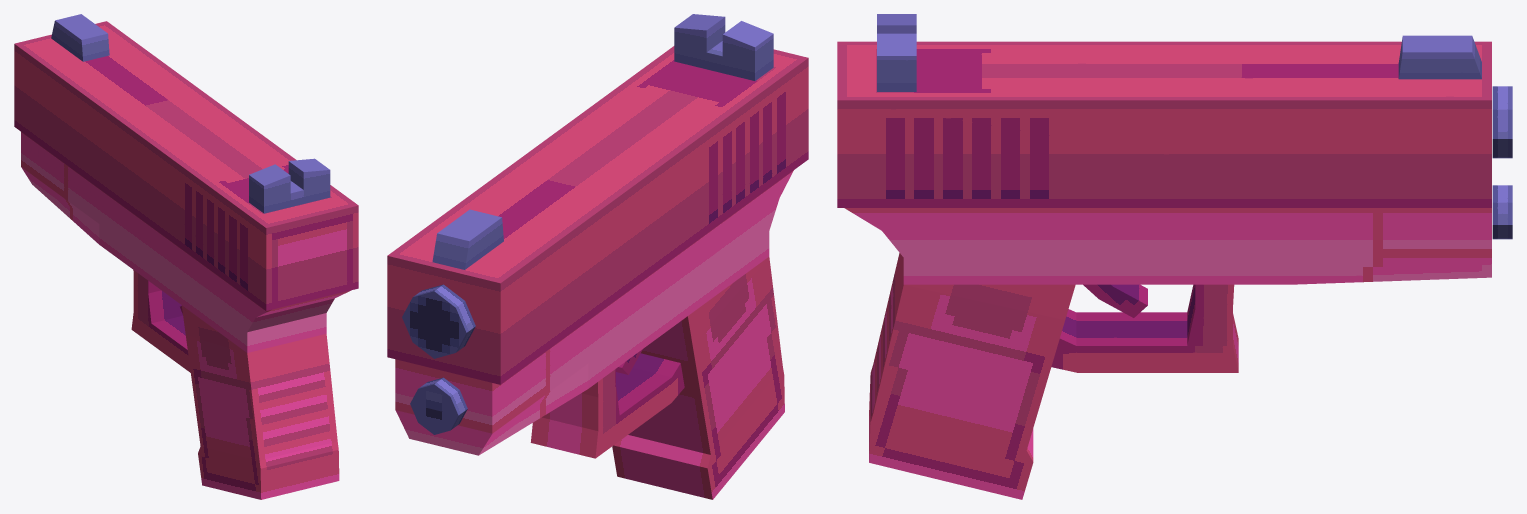
Rendered from glock-19-pink.gltf.
3 views of the same model, side by side, from view 1: azimuth 30°, elevation 25°; view 2: azimuth 150°, elevation 25°; view 3: azimuth 270°, elevation 25° (orthographic). The views are drawn at different scales.
Visible parts, largest first — view 1: cube (×8); view 2: cube (×10); view 3: cube (×10).
Part boxes in pixels (bbox=[...]): cube (×8): bbox=[14, 14, 358, 499]; cube (×10): bbox=[387, 14, 808, 499]; cube (×10): bbox=[837, 14, 1512, 499].
Size of the model in its own units: 0.2188 by 0.7746 by 1.06.
Materials: 1 (1 with a texture image).
